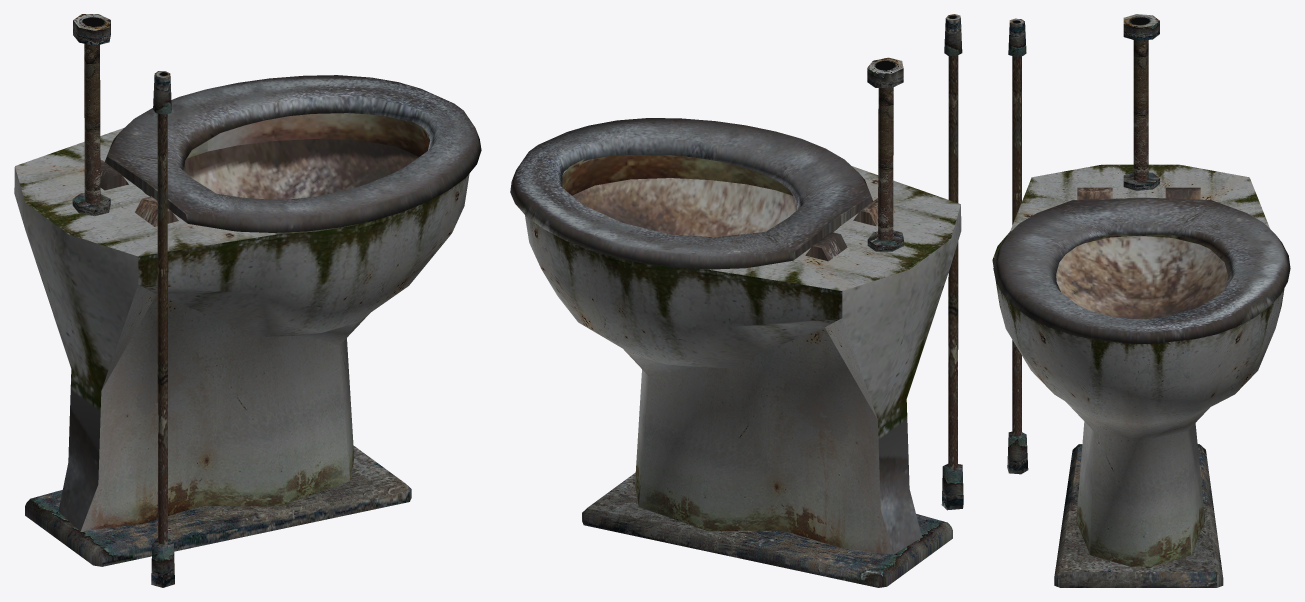
The model's file is toilet.fbx.
The picture shows the model from 3 angles, left to right: view 1: azimuth 30°, elevation 25°; view 2: azimuth 150°, elevation 25°; view 3: azimuth 270°, elevation 25°; orthographic projection. The views are drawn at different scales.
Visible parts, largest first — view 1: lighthouse_toilet_001.smd_0; view 2: lighthouse_toilet_001.smd_0; view 3: lighthouse_toilet_001.smd_0.
Part boxes in pixels (bbox=[...]): lighthouse_toilet_001.smd_0: bbox=[14, 14, 481, 587]; lighthouse_toilet_001.smd_0: bbox=[510, 14, 963, 587]; lighthouse_toilet_001.smd_0: bbox=[992, 14, 1290, 587].
Bounding box in the file's own units: 70.84 × 82.79 × 49.77.
Materials: 1 (1 with a texture image).
